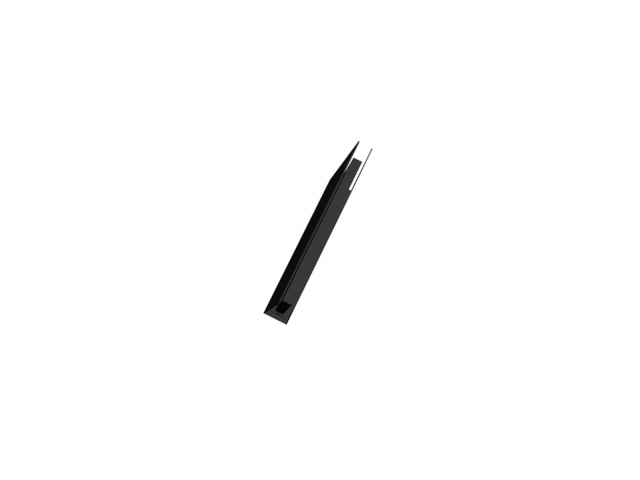ring_binder: (257, 137, 376, 328)
